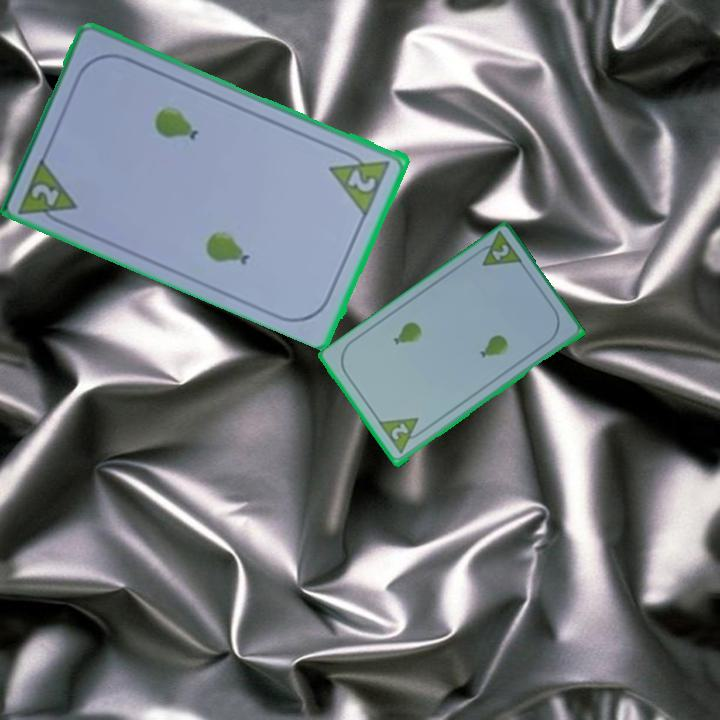2p: (327, 144, 394, 217), (28, 179, 63, 209), (387, 420, 412, 443), (488, 241, 512, 264)
